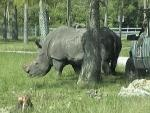rhino: (18, 25, 122, 78)
